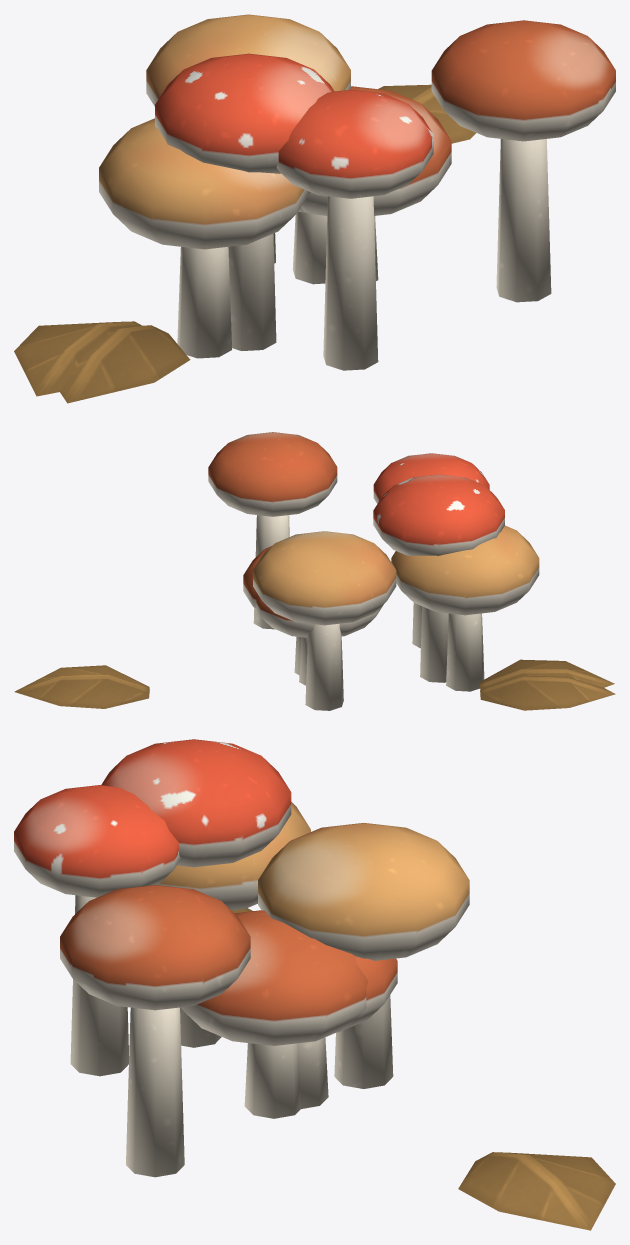
File: mushrooms.glb
The picture shows the model from 3 angles, top to bottom: view 1: azimuth 30°, elevation 25°; view 2: azimuth 150°, elevation 25°; view 3: azimuth 270°, elevation 25°; orthographic projection. The views are drawn at different scales.
Parts seen in each view (by area): view 1: Mushrooms; view 2: Mushrooms; view 3: Mushrooms.
Part boxes in pixels (bbox=[...]): Mushrooms: bbox=[14, 14, 615, 403]; Mushrooms: bbox=[14, 432, 615, 710]; Mushrooms: bbox=[14, 739, 615, 1230].
Bounding box in the file's own units: 0.4742 × 0.1903 × 0.3683.
1 material, 1 textured.
